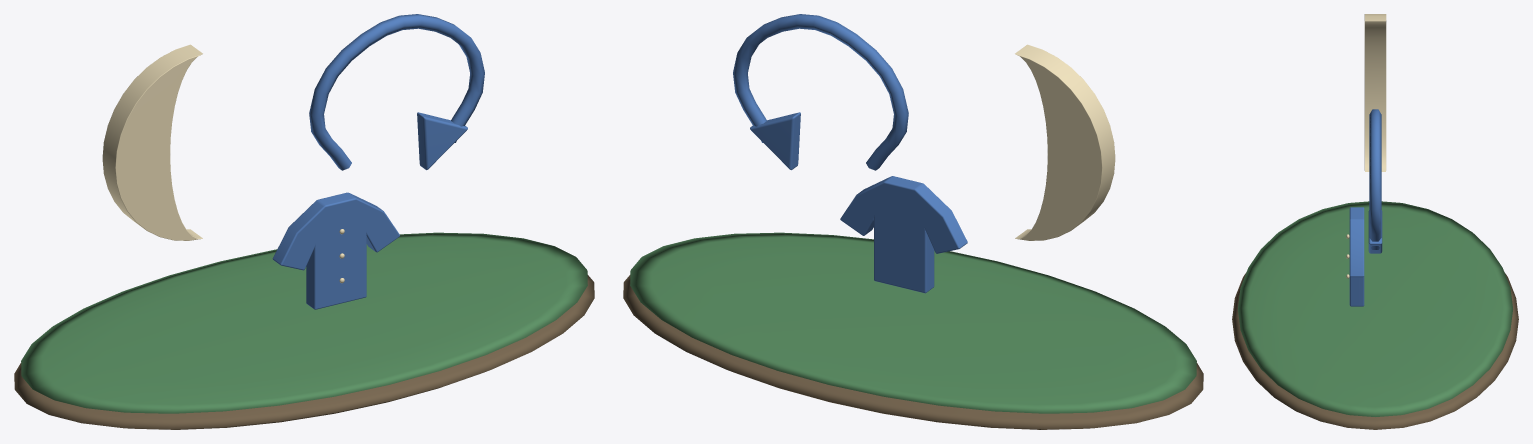
File: complete-third-moon-exchange-off.glb
The picture shows the model from 3 angles, left to right: view 1: azimuth 30°, elevation 25°; view 2: azimuth 150°, elevation 25°; view 3: azimuth 270°, elevation 25°; orthographic projection. The views are drawn at different scales.
Visible parts, largest first — view 1: complete-third-moon-exchange-off_surface_01, complete-third-moon-exchange-off_surface_03, complete-third-moon-exchange-off_surface_02, complete-third-moon-exchange-off_surface_00; view 2: complete-third-moon-exchange-off_surface_01, complete-third-moon-exchange-off_surface_03, complete-third-moon-exchange-off_surface_02, complete-third-moon-exchange-off_surface_00; view 3: complete-third-moon-exchange-off_surface_01, complete-third-moon-exchange-off_surface_00, complete-third-moon-exchange-off_surface_03, complete-third-moon-exchange-off_surface_02.
Boxes of the visible parts, x1,y1,x2,y2 form: complete-third-moon-exchange-off_surface_01: (21, 232, 587, 413); complete-third-moon-exchange-off_surface_03: (272, 14, 484, 309); complete-third-moon-exchange-off_surface_02: (102, 44, 344, 283); complete-third-moon-exchange-off_surface_00: (14, 275, 594, 429); complete-third-moon-exchange-off_surface_01: (630, 232, 1196, 413); complete-third-moon-exchange-off_surface_03: (733, 14, 967, 293); complete-third-moon-exchange-off_surface_02: (1015, 44, 1115, 240); complete-third-moon-exchange-off_surface_00: (623, 275, 1203, 429); complete-third-moon-exchange-off_surface_01: (1238, 201, 1512, 416); complete-third-moon-exchange-off_surface_00: (1232, 272, 1518, 429); complete-third-moon-exchange-off_surface_03: (1349, 109, 1382, 306); complete-third-moon-exchange-off_surface_02: (1346, 14, 1386, 278).
Size of the model in its own units: 4.56 by 2.58 by 2.5.
